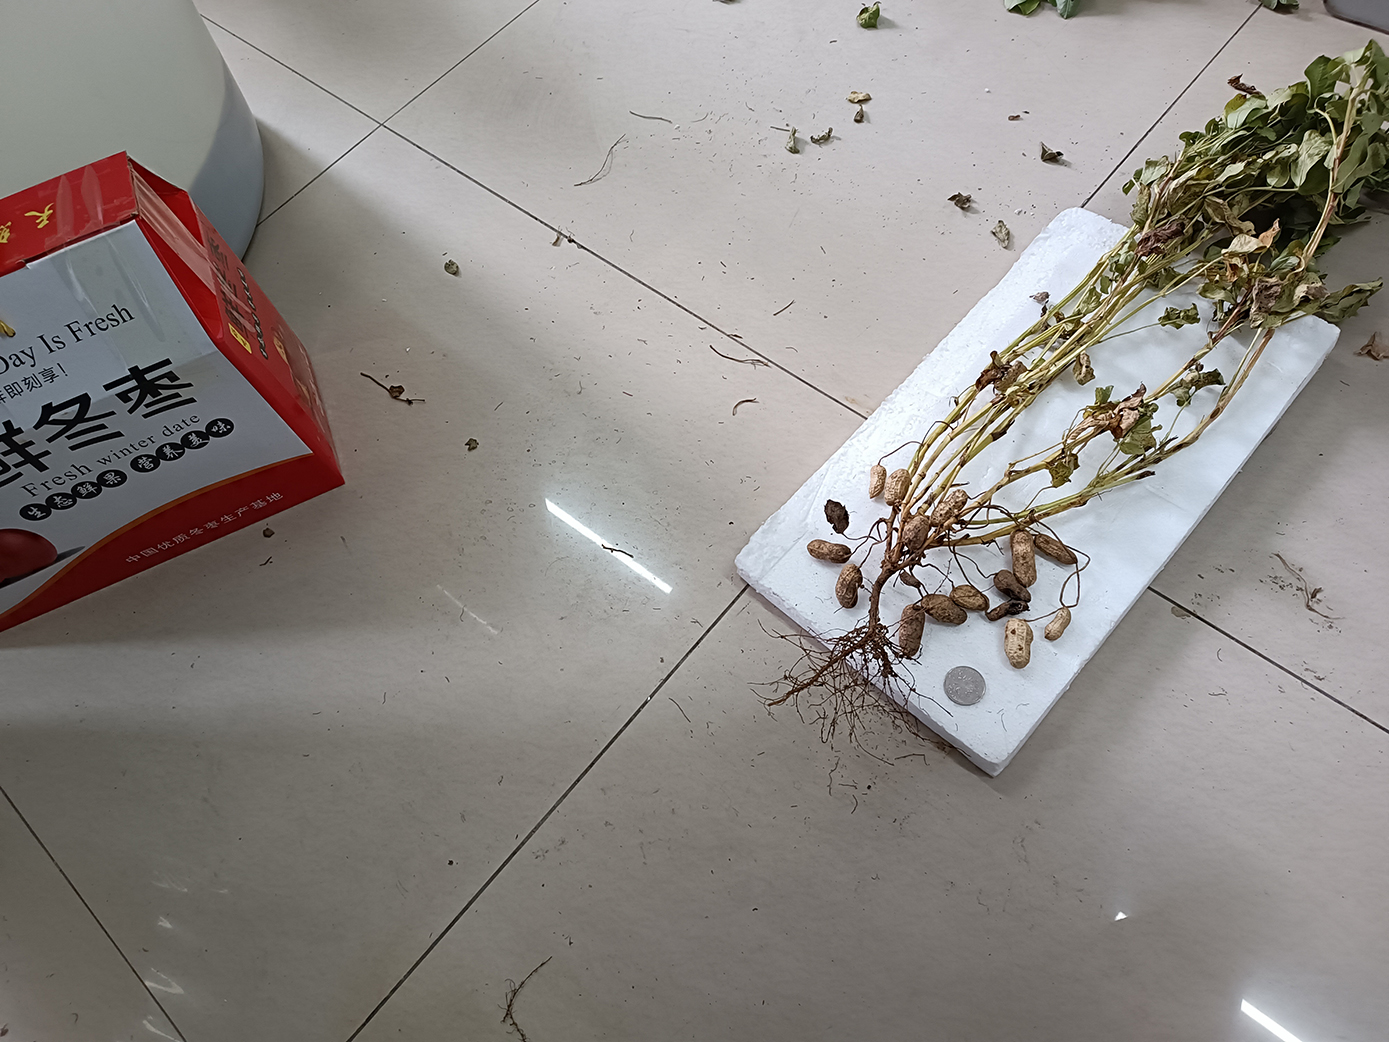h: (1003, 618, 1033, 669), (1010, 528, 1035, 587), (835, 564, 863, 609), (951, 584, 989, 611), (902, 514, 930, 549), (884, 468, 911, 506), (1044, 606, 1070, 641), (868, 464, 887, 499)
l: (921, 593, 968, 626), (898, 604, 925, 657), (1033, 533, 1078, 565), (930, 489, 968, 526), (993, 569, 1032, 603), (807, 539, 852, 564), (824, 498, 850, 534), (986, 600, 1031, 621), (899, 571, 921, 588)
